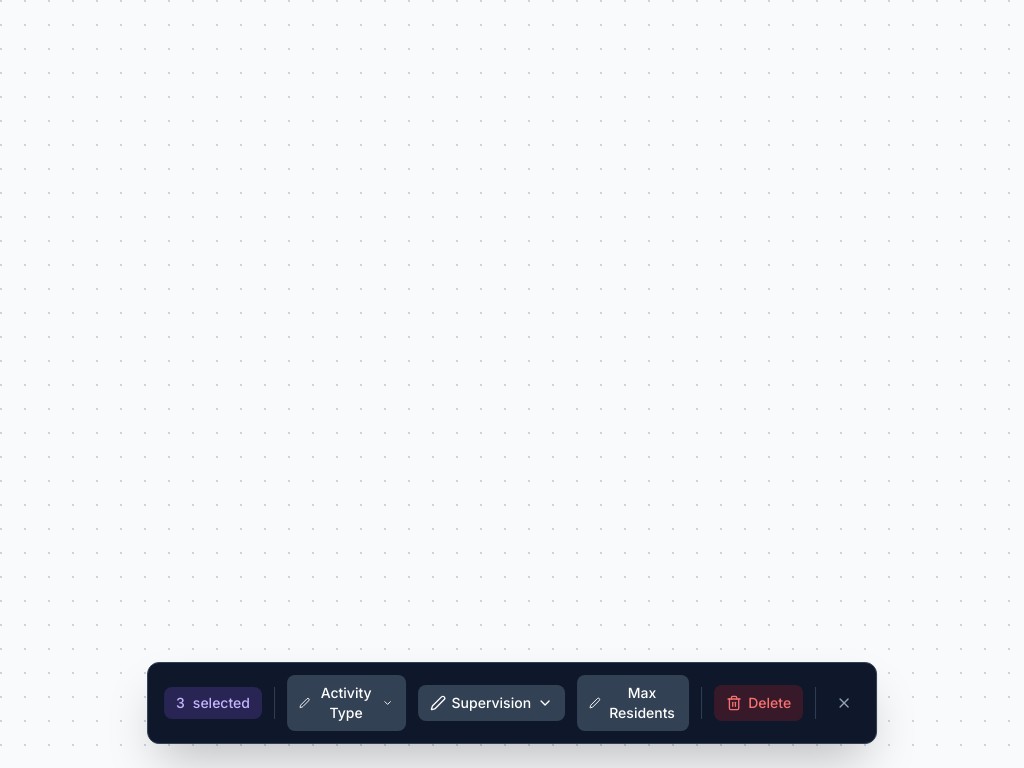
Test: BulkActionsToolbar › Delete Action › closes modal when cancelled
# Open modal
Click the button "Delete". click: (759, 703)
box: [714, 685, 803, 721]
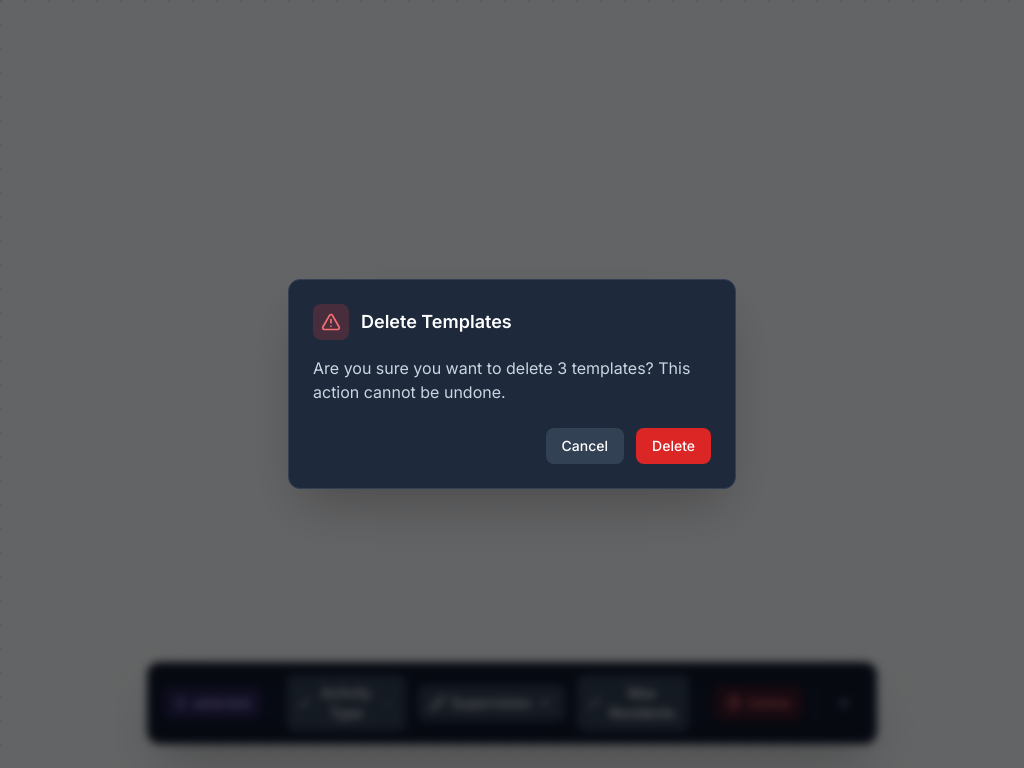
Expected: the heading "Delete Templates" is shown, [361, 308, 512, 336]
Click the button "Cancel". click: (585, 446)
box: [546, 428, 624, 464]
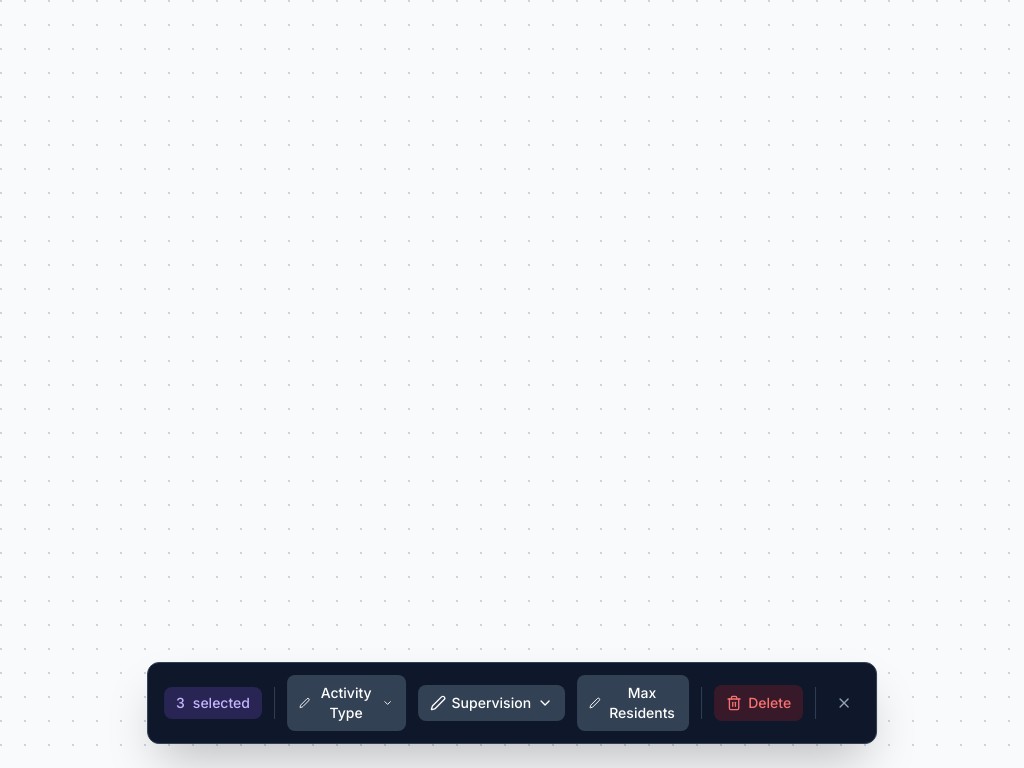
Expected: the heading "Delete Templates" is gone
